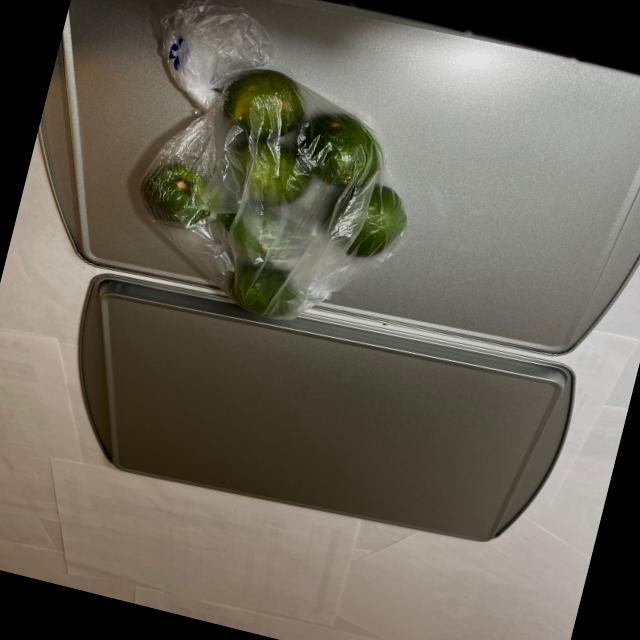lemon: (109, 21, 438, 346)
